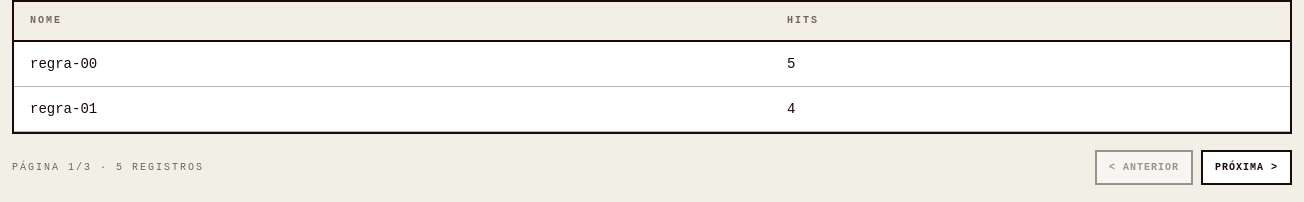
Test: DataTable › pagina: a segunda página traz o resto dos registros
Expected: the text "regra-00" is shown, [14,41,771,87]
Expected: the text "regra-02" is not shown
What coordinates should you click on to do the following:
click the button "PRÓXIMA >"
I would click on:
 (1246, 168)
Its box is [1201,150,1292,185].
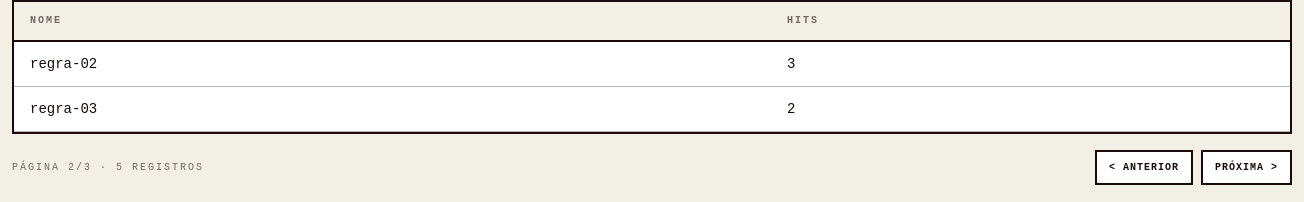
Expected: the text "regra-02" is shown, [14,41,771,87]
Expected: the text "regra-00" is gone
